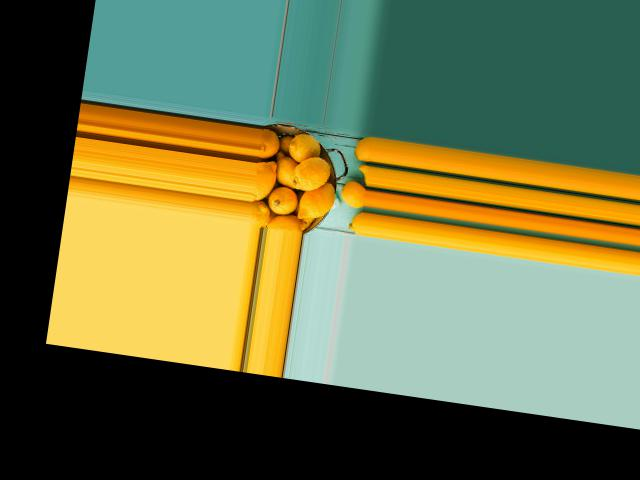lemon: (247, 194, 271, 227)
